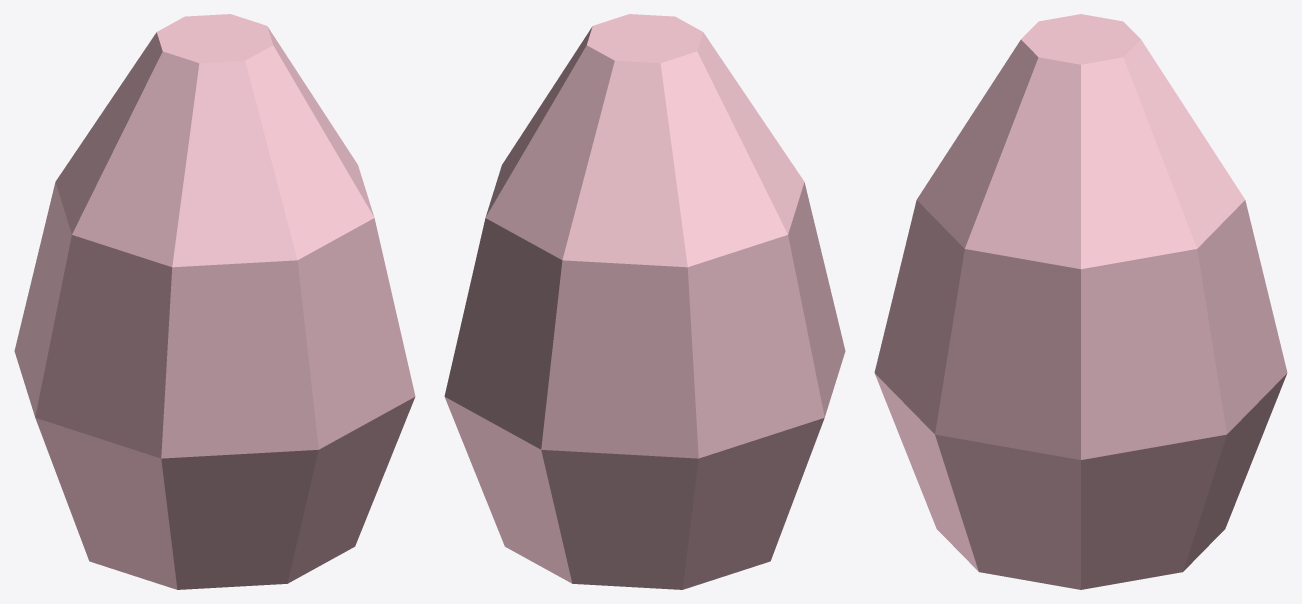
The model's file is egg-pink.glb.
3 views of the same model, side by side, from view 1: azimuth 30°, elevation 25°; view 2: azimuth 150°, elevation 25°; view 3: azimuth 270°, elevation 25° (orthographic).
Visible parts, largest first — view 1: stone_smallH; view 2: stone_smallH; view 3: stone_smallH.
Part boxes in pixels (left/top/right/bottom): stone_smallH: left=14, top=14, right=415, bottom=589; stone_smallH: left=444, top=14, right=845, bottom=589; stone_smallH: left=874, top=14, right=1287, bottom=589.
Bounding box in the file's own units: 0.8721 × 1.14 × 0.8721.
